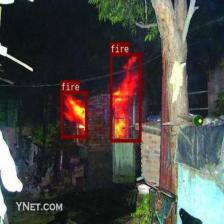fire: (110, 53, 140, 142), (60, 90, 87, 138)
